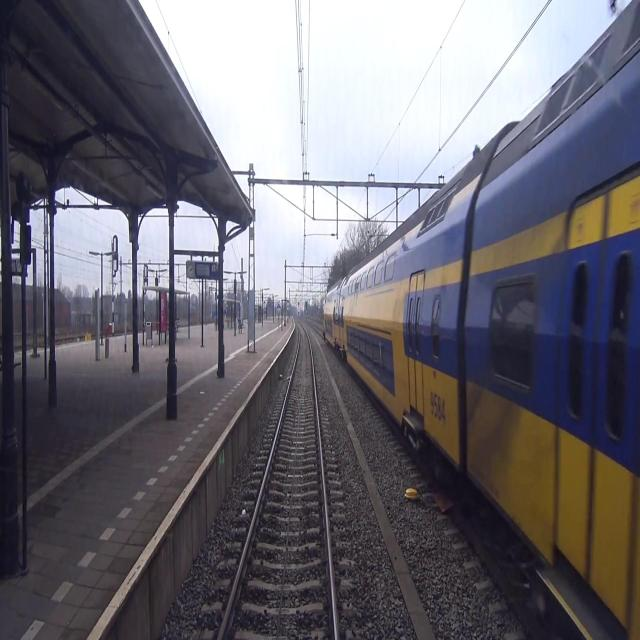rail-track: (222, 324, 332, 639)
